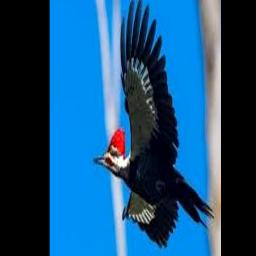Woodpecker: (94, 0, 214, 247)
